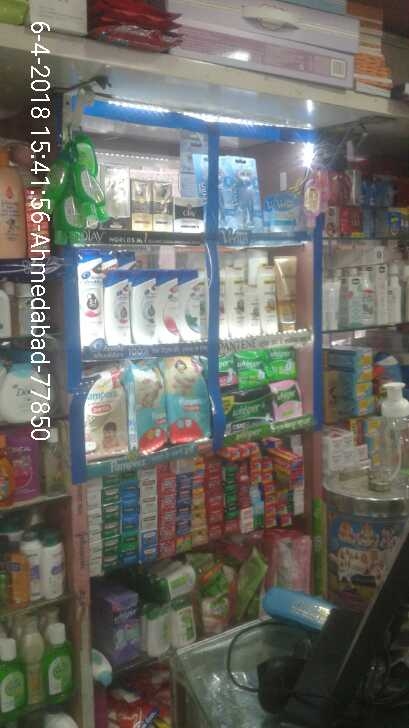venus: (225, 156, 262, 231), (263, 193, 302, 233)
